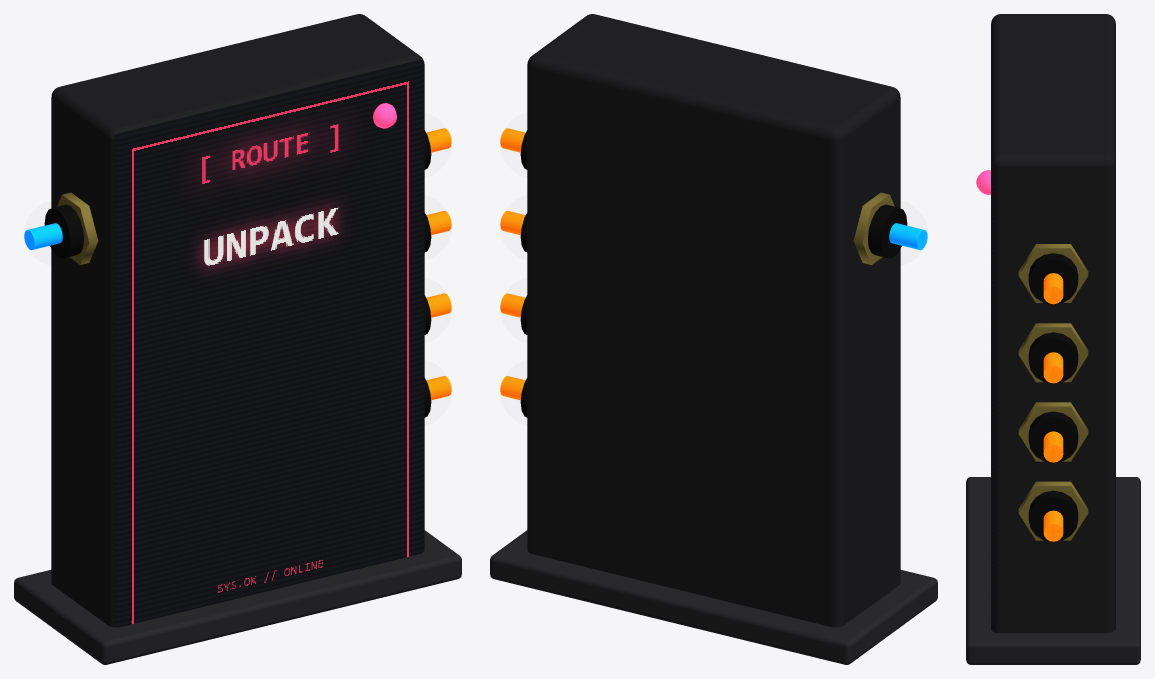
File: route_unpack.glb
3 renders of one model, left to right at view 1: azimuth 30°, elevation 25°; view 2: azimuth 150°, elevation 25°; view 3: azimuth 270°, elevation 25°, orthographic. The views are drawn at different scales.
Visible parts, largest first — view 1: chassis, bracket, socket, hex_nut, pin; view 2: chassis, bracket, socket, hex_nut, pin; view 3: chassis, bracket, socket (×4), hex_nut (×4), pin (×4), status_led.
Part boxes in pixels (x1,y1,x2,y2): chassis: [51, 14, 424, 627]; bracket: [14, 530, 461, 664]; socket: [44, 204, 83, 258]; hex_nut: [57, 192, 98, 264]; pin: [24, 223, 62, 250]; chassis: [527, 14, 900, 627]; bracket: [490, 530, 937, 664]; socket: [868, 204, 907, 258]; hex_nut: [853, 192, 894, 264]; pin: [889, 223, 927, 250]; chassis: [991, 14, 1115, 633]; bracket: [966, 477, 1140, 664]; socket (×4): [1028, 253, 1078, 541]; hex_nut (×4): [1018, 244, 1088, 540]; pin (×4): [1043, 273, 1063, 541]; status_led: [976, 170, 990, 194].
Size of the model in its own units: 1.86 by 2.2 by 0.7.
13 materials, 1 textured.
